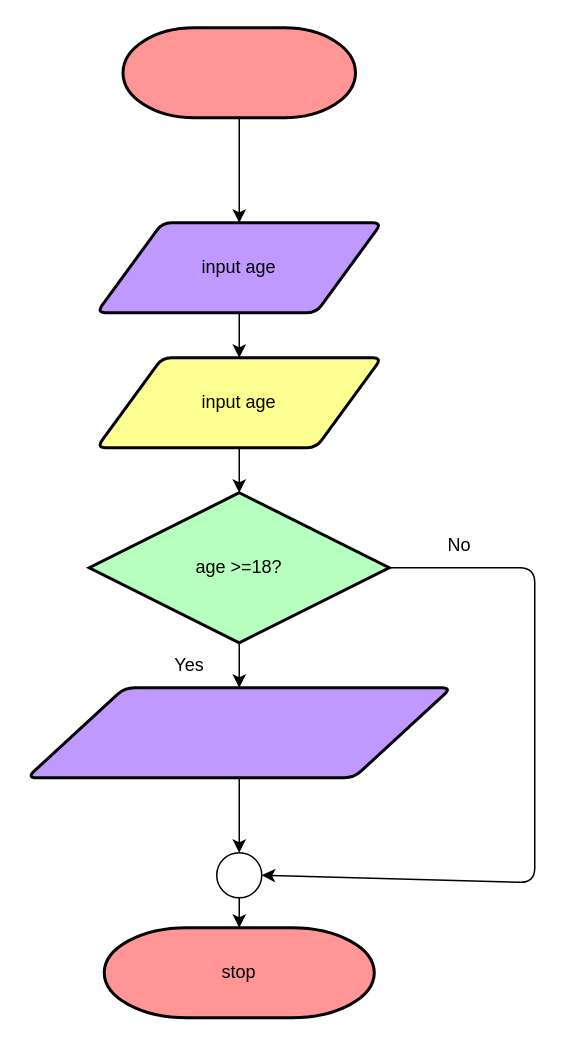
This 573x1044 diagram has some shape labels left out. Here are the shapes that lost their labels. From the top down, the box of each, then its label:
(121, 26, 356, 118): Strart
(25, 686, 452, 778): "You are an adult"
